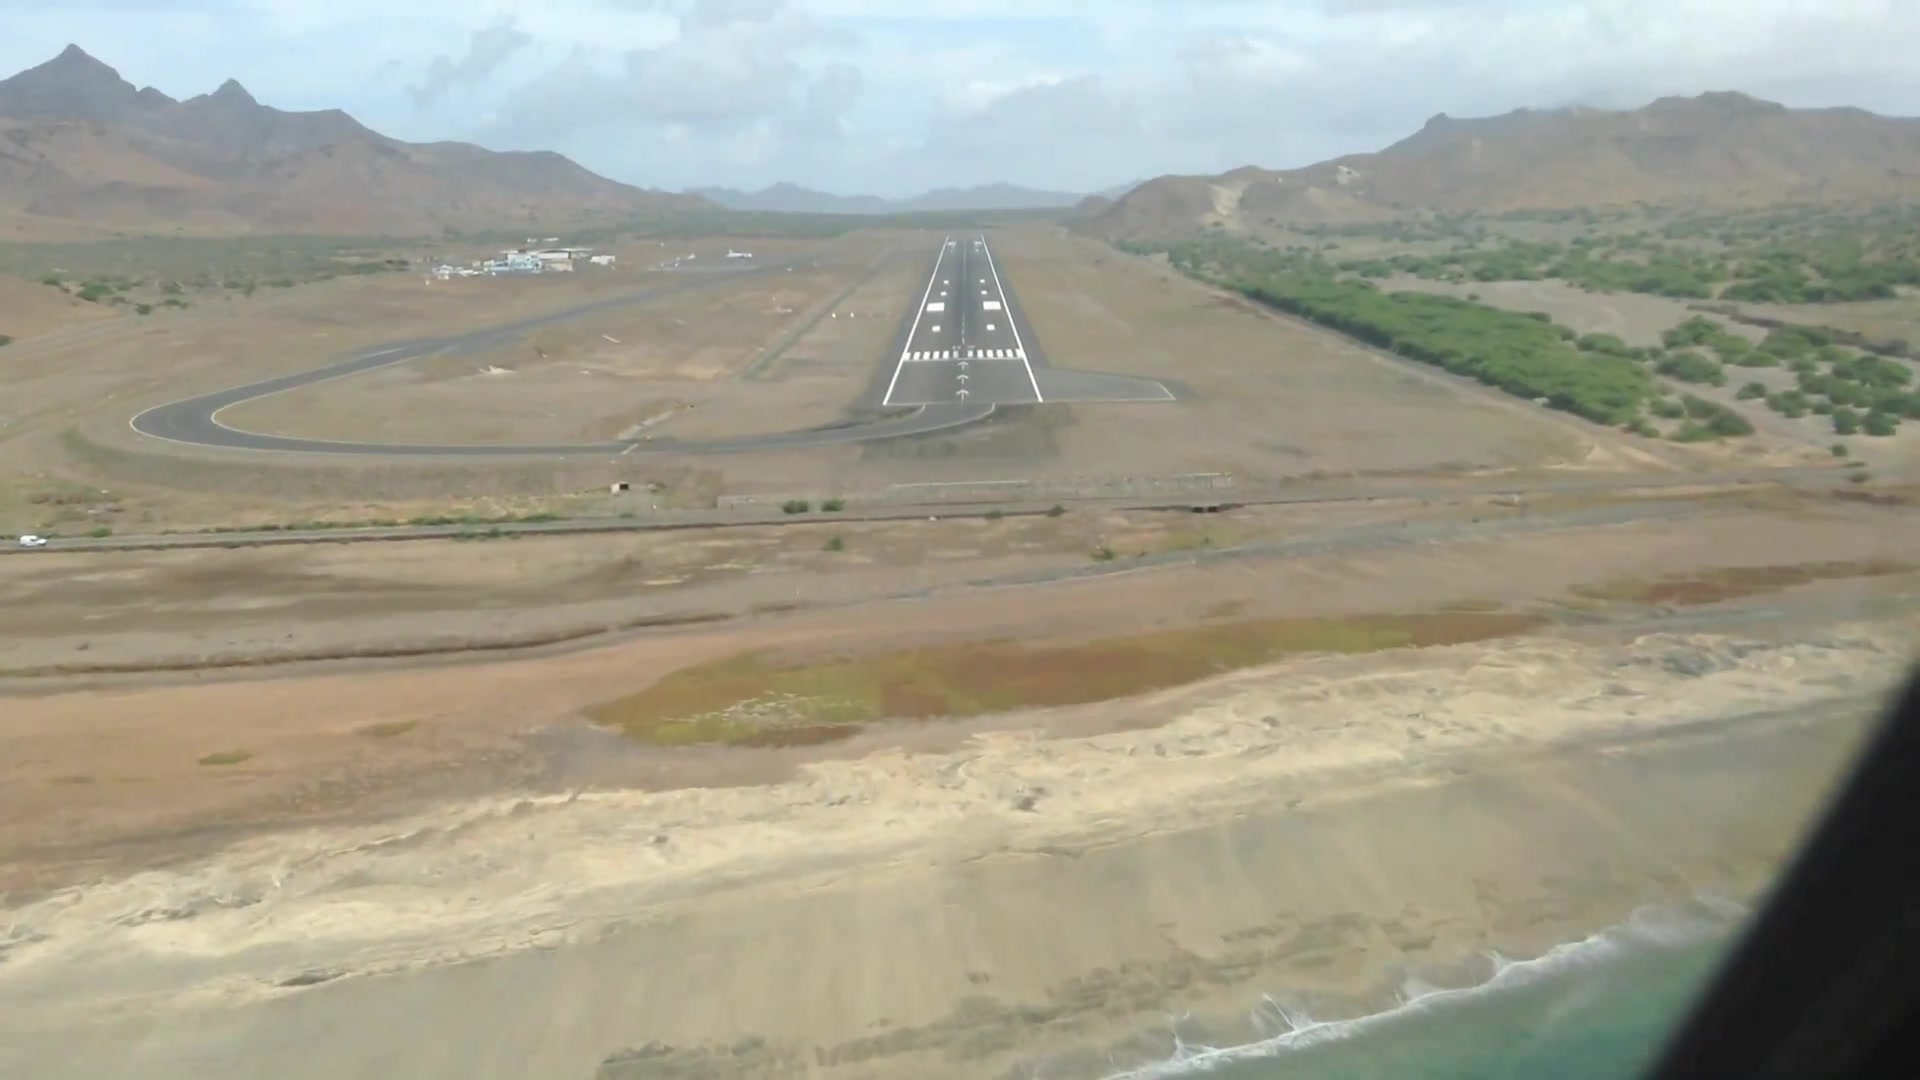entrance: (895, 345, 1025, 364)
runway: (884, 225, 1048, 410)
